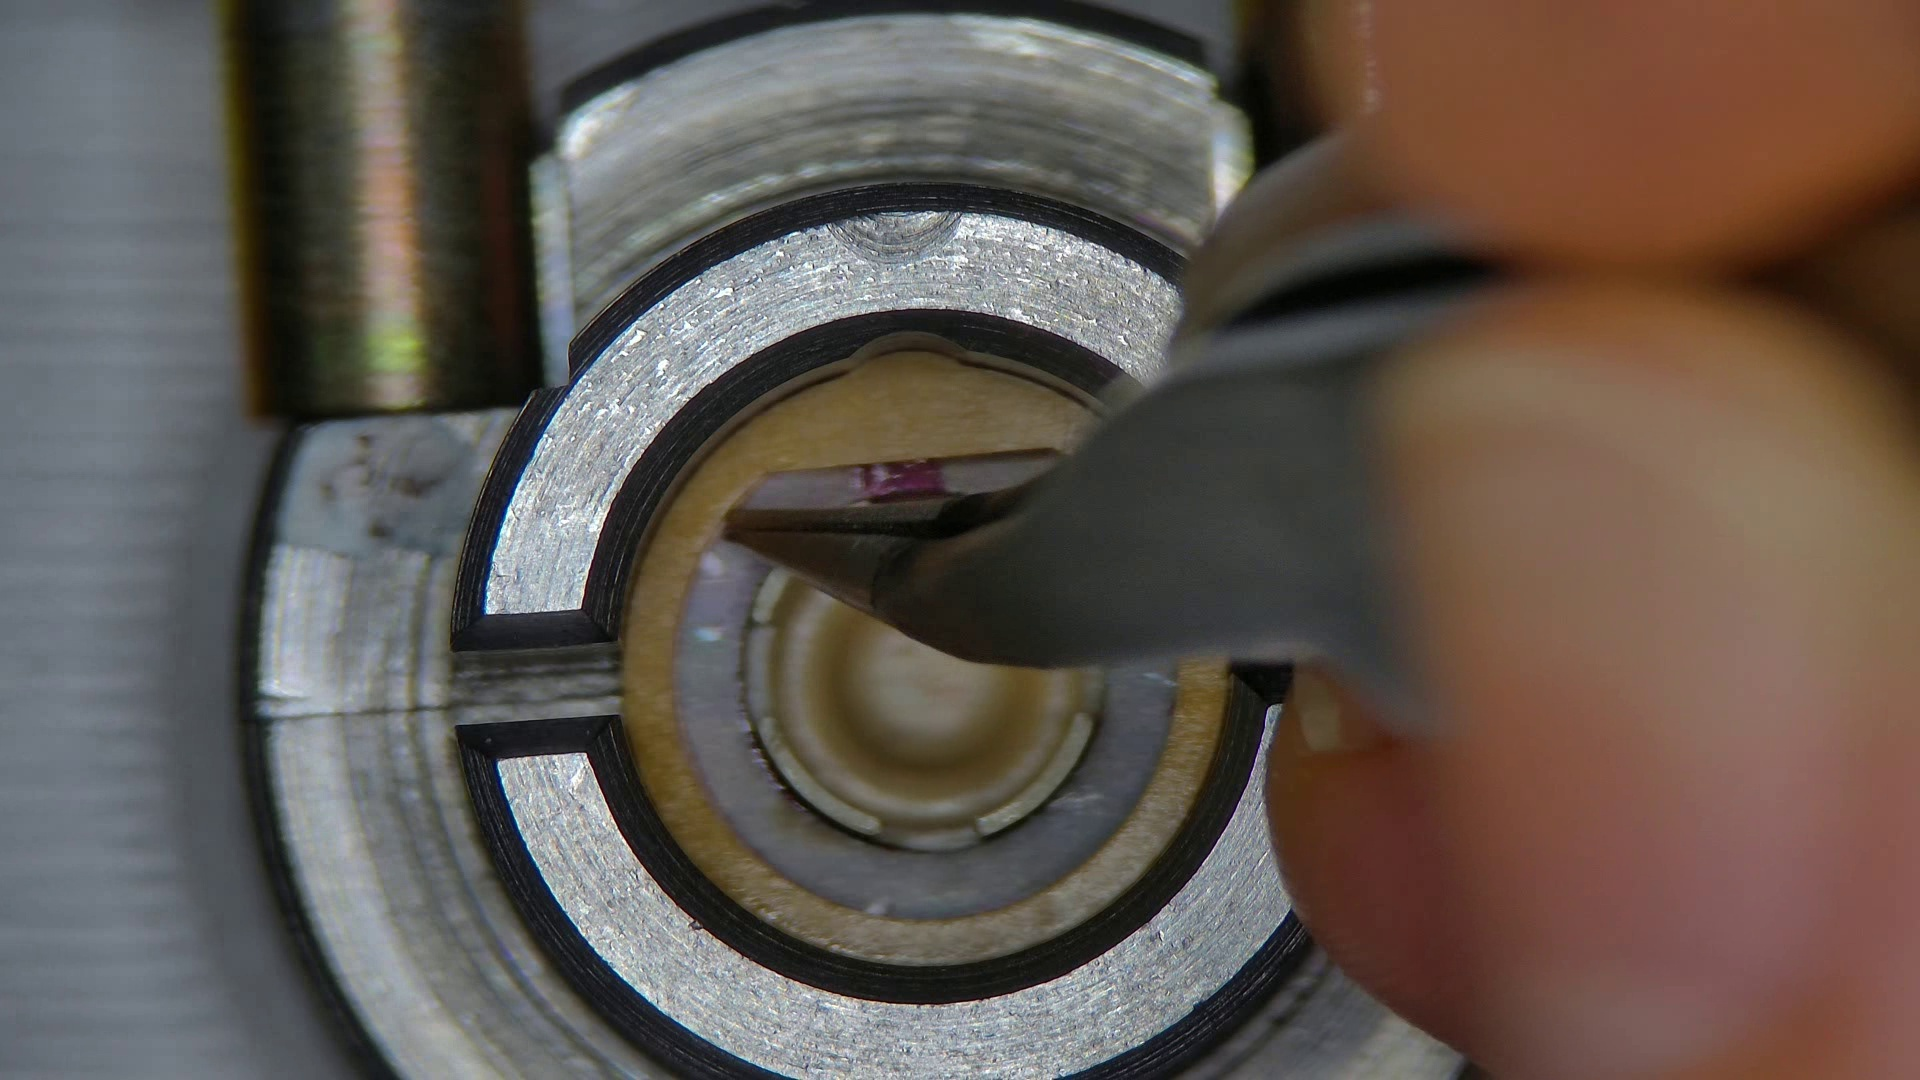YellowOring: (680, 542, 1168, 916), (746, 454, 1056, 509)
redOring: (624, 349, 1230, 960)
